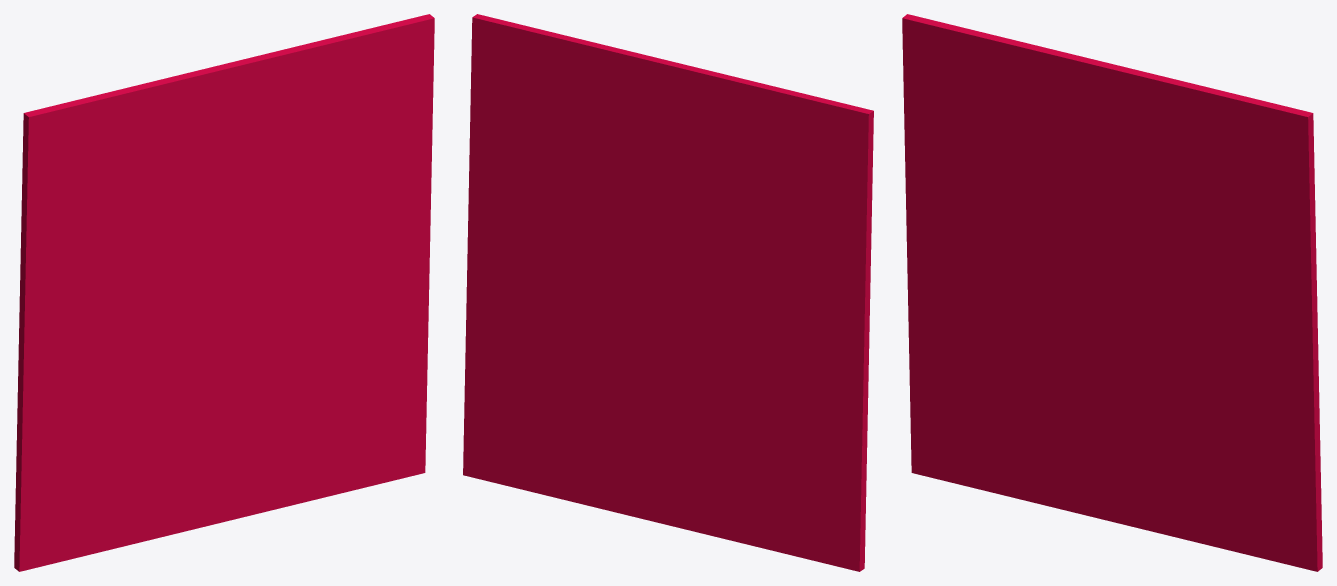
File: vetro_frigo.fbx
The picture shows the model from 3 angles, left to right: view 1: azimuth 30°, elevation 25°; view 2: azimuth 150°, elevation 25°; view 3: azimuth 330°, elevation 25°; orthographic projection. The views are drawn at different scales.
Parts seen in each view (by area): view 1: Vetro; view 2: Vetro; view 3: Vetro.
Boxes of the visible parts, x1=… form: Vetro: x1=14, y1=14, x2=434, y2=571; Vetro: x1=463, y1=14, x2=873, y2=571; Vetro: x1=902, y1=14, x2=1322, y2=571.
Size of the model in its own units: 249 by 271 by 15.62.
